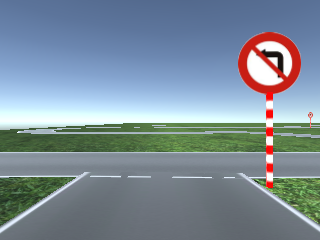0: (1, 201, 320, 240)
NoLeft: (237, 32, 302, 94)
